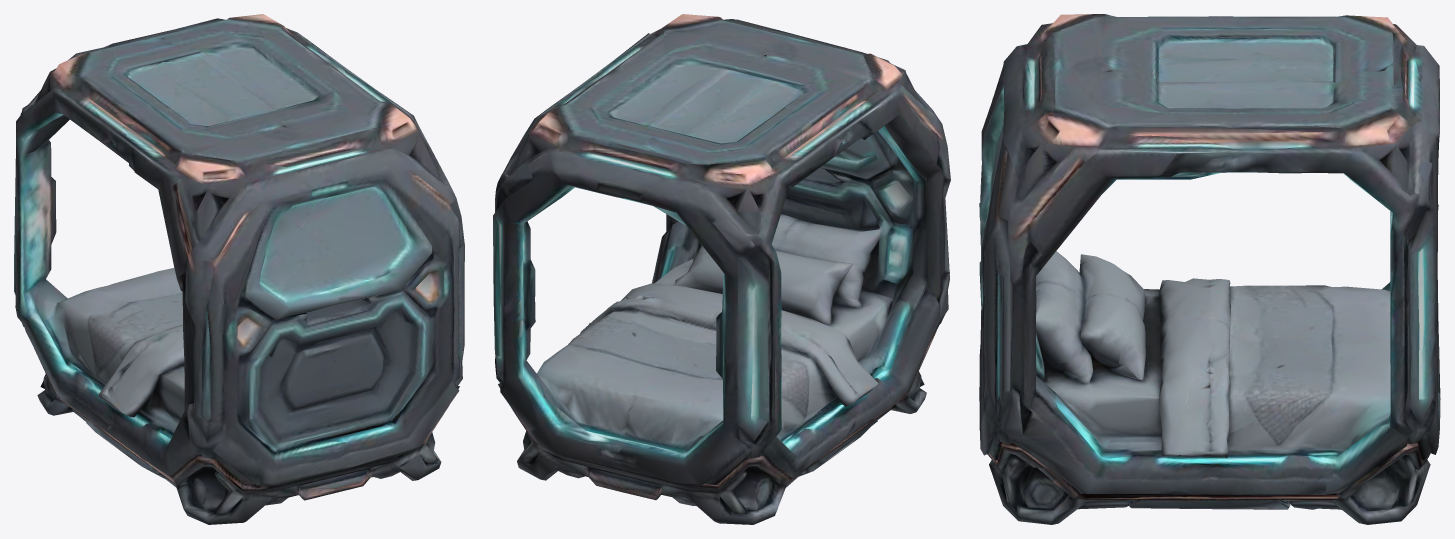
File: au_furn_bed_cyber.glb
3 renders of one model, left to right at view 1: azimuth 30°, elevation 25°; view 2: azimuth 150°, elevation 25°; view 3: azimuth 270°, elevation 25°, orthographic. The views are drawn at different scales.
Parts seen in each view (by area): view 1: tripo_node_bba40c11-056c-4d11-9185-44e8a27343f1; view 2: tripo_node_bba40c11-056c-4d11-9185-44e8a27343f1; view 3: tripo_node_bba40c11-056c-4d11-9185-44e8a27343f1.
Boxes of the visible parts, x1=… form: tripo_node_bba40c11-056c-4d11-9185-44e8a27343f1: x1=14, y1=14, x2=464, y2=524; tripo_node_bba40c11-056c-4d11-9185-44e8a27343f1: x1=493, y1=14, x2=950, y2=524; tripo_node_bba40c11-056c-4d11-9185-44e8a27343f1: x1=979, y1=14, x2=1440, y2=524.
Size of the model in its own units: 0.7749 by 0.9096 by 0.9798.
1 material, 1 textured.
